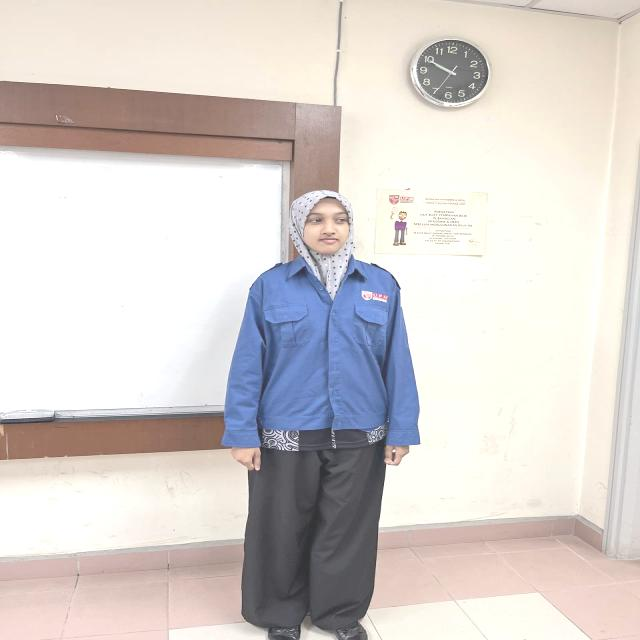person_with_labcoat: (222, 190, 419, 640)
